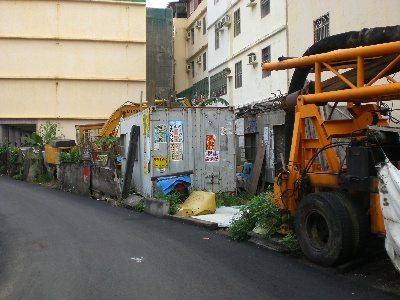tire: (294, 192, 353, 267)
